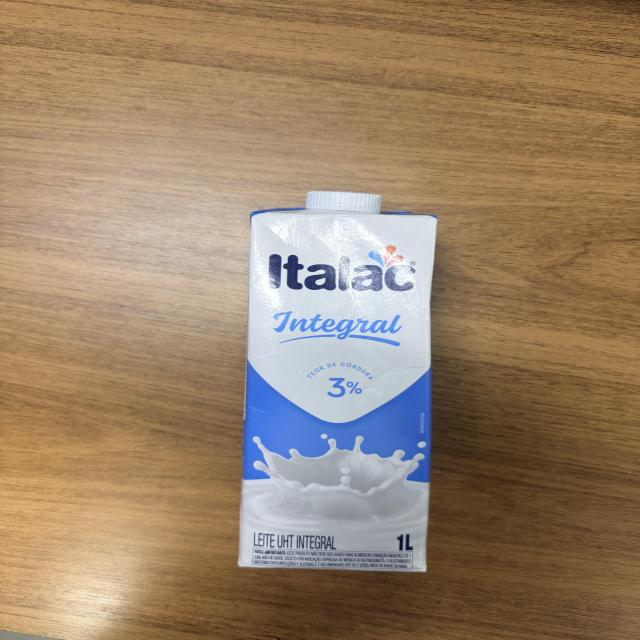Caixa de Leite: (245, 203, 442, 566)
